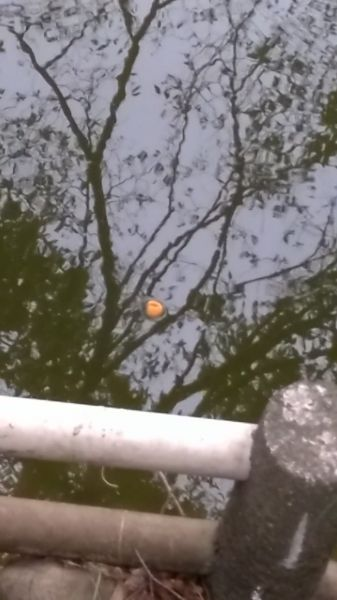eggs: (139, 293, 171, 324)
